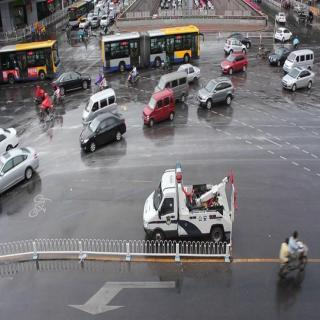Car: (139, 165, 235, 247), (103, 34, 208, 64), (0, 40, 63, 82), (0, 139, 41, 193), (77, 113, 125, 158), (196, 78, 236, 112), (146, 88, 175, 130), (281, 60, 309, 103), (56, 62, 84, 104), (78, 94, 124, 116), (221, 46, 250, 78), (268, 48, 291, 68), (278, 24, 293, 43)
